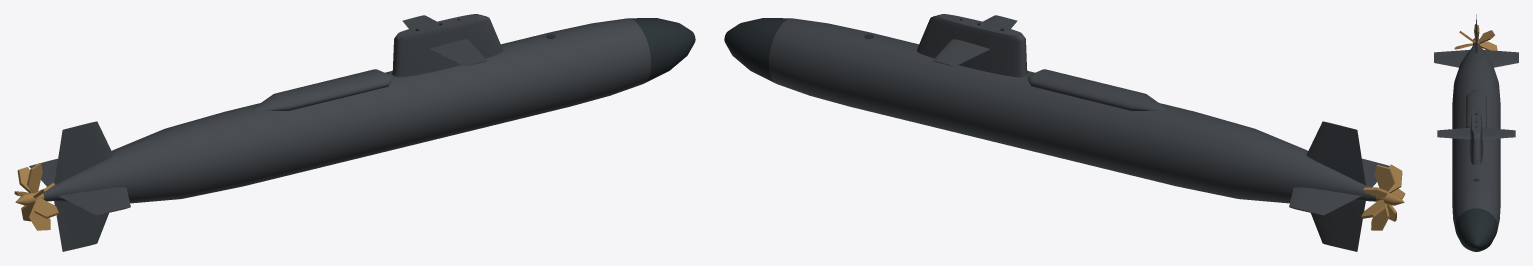
File: pla_ssn_type093b.glb
3 renders of one model, left to right at view 1: azimuth 30°, elevation 25°; view 2: azimuth 150°, elevation 25°; view 3: azimuth 270°, elevation 25°, orthographic. The views are drawn at different scales.
Visible parts, largest first — view 1: submarine_coating, boot_topping, bronze; view 2: submarine_coating, boot_topping, bronze; view 3: submarine_coating, boot_topping, bronze.
Part boxes in pixels (left/top/right/bottom): submarine_coating: left=29, top=14, right=650, bottom=251; boot_topping: left=415, top=18, right=695, bottom=82; bronze: left=14, top=163, right=58, bottom=230; submarine_coating: left=768, top=14, right=1389, bottom=251; boot_topping: left=724, top=18, right=1004, bottom=82; bronze: left=1361, top=164, right=1405, bottom=230; submarine_coating: left=1434, top=14, right=1518, bottom=228; boot_topping: left=1455, top=113, right=1497, bottom=251; bronze: left=1454, top=24, right=1497, bottom=50.
Bounding box in the file's own units: 10 × 1.92 × 1.72.
